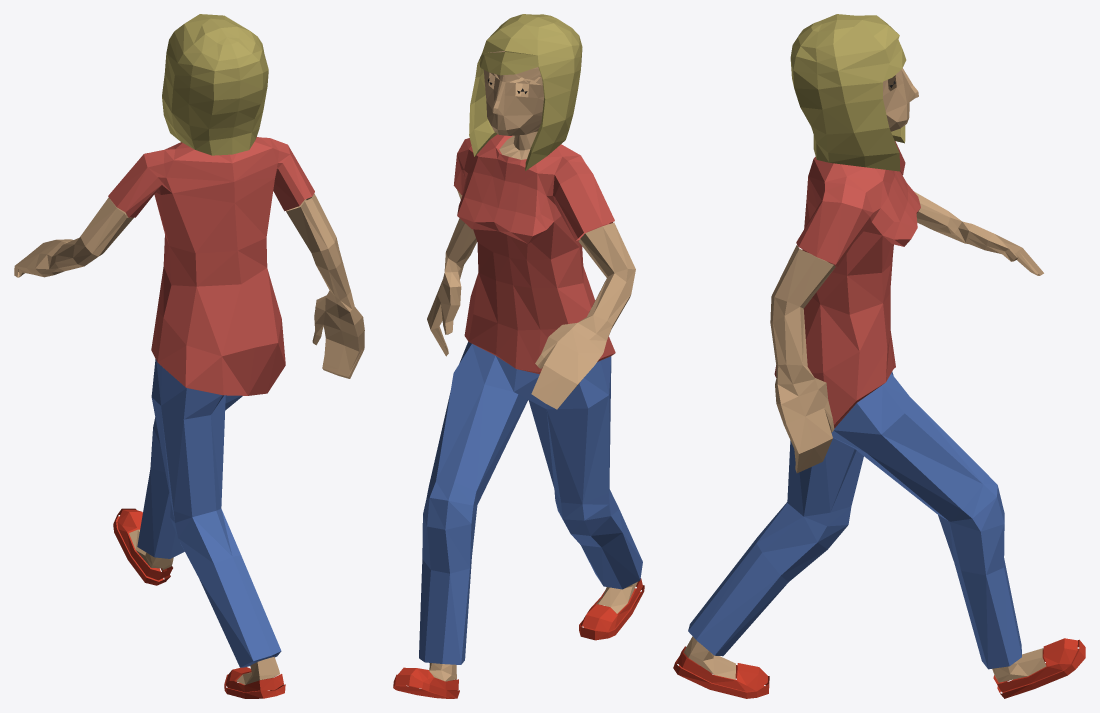
The model's file is person_6_w3.fbx.
3 renders of one model, left to right at view 1: azimuth 30°, elevation 25°; view 2: azimuth 150°, elevation 25°; view 3: azimuth 270°, elevation 25°, orthographic. The views are drawn at different scales.
Visible parts, largest first — view 1: Woman; view 2: Woman; view 3: Woman.
Boxes of the visible parts, bbox=[...] form: Woman: bbox=[14, 14, 364, 698]; Woman: bbox=[393, 14, 644, 698]; Woman: bbox=[673, 14, 1085, 698].
Size of the model in its own units: 0.4182 by 1 by 0.5493.
